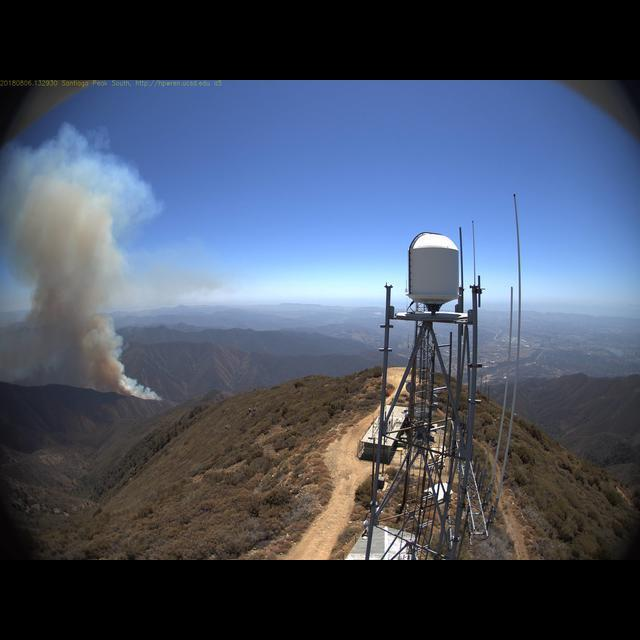Smoke: (2, 124, 166, 403)
